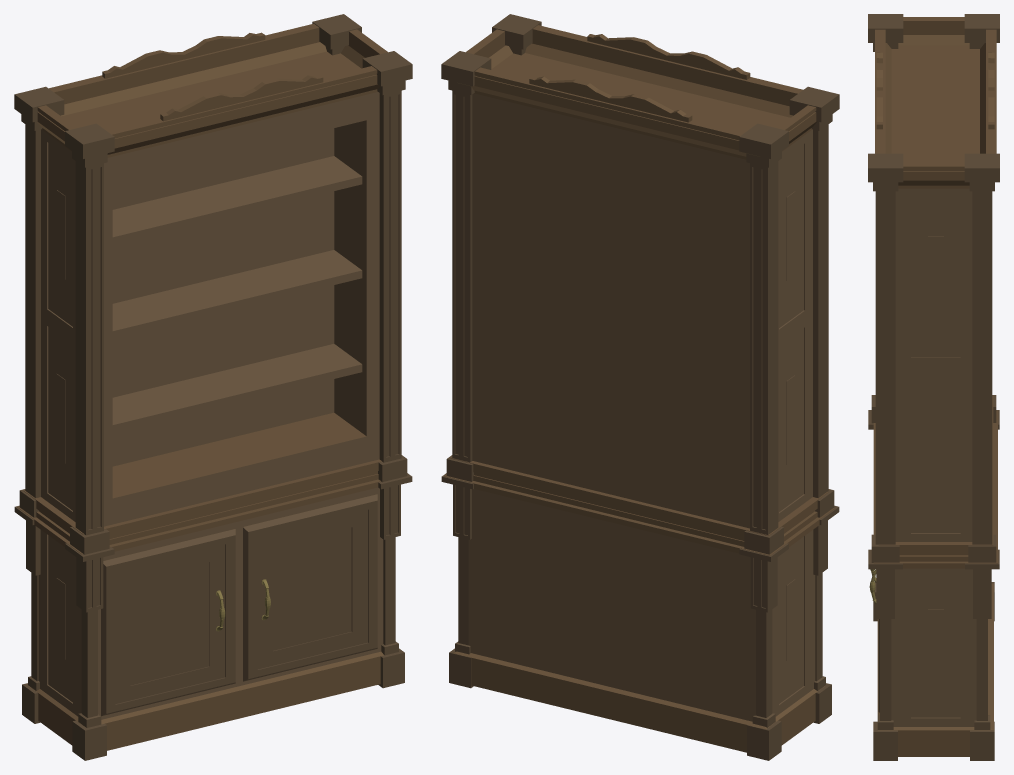
File: Bookcase.glb
3 views of the same model, side by side, from view 1: azimuth 30°, elevation 25°; view 2: azimuth 150°, elevation 25°; view 3: azimuth 270°, elevation 25° (orthographic). The views are drawn at different scales.
Visible parts, largest first — view 1: Bookcase; view 2: Bookcase; view 3: Bookcase.
Part boxes in pixels (x1,y1,x2,y2): Bookcase: [14, 14, 412, 760]; Bookcase: [441, 14, 839, 760]; Bookcase: [868, 14, 999, 760].
Size of the model in its own units: 1.22 by 2.24 by 0.4418.
Materials: 4 (4 with a texture image).
